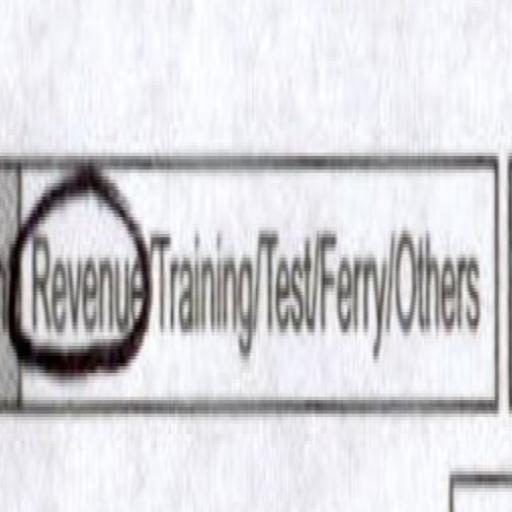check: (5, 122, 152, 444)
